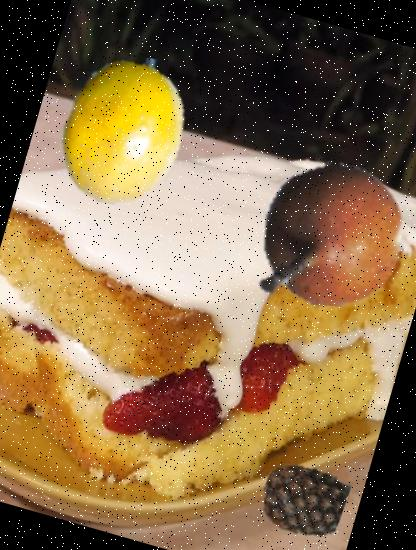Granadilla: (241, 144, 416, 323)
Maracuja: (29, 36, 214, 222)
Pineapple: (252, 448, 355, 550)
